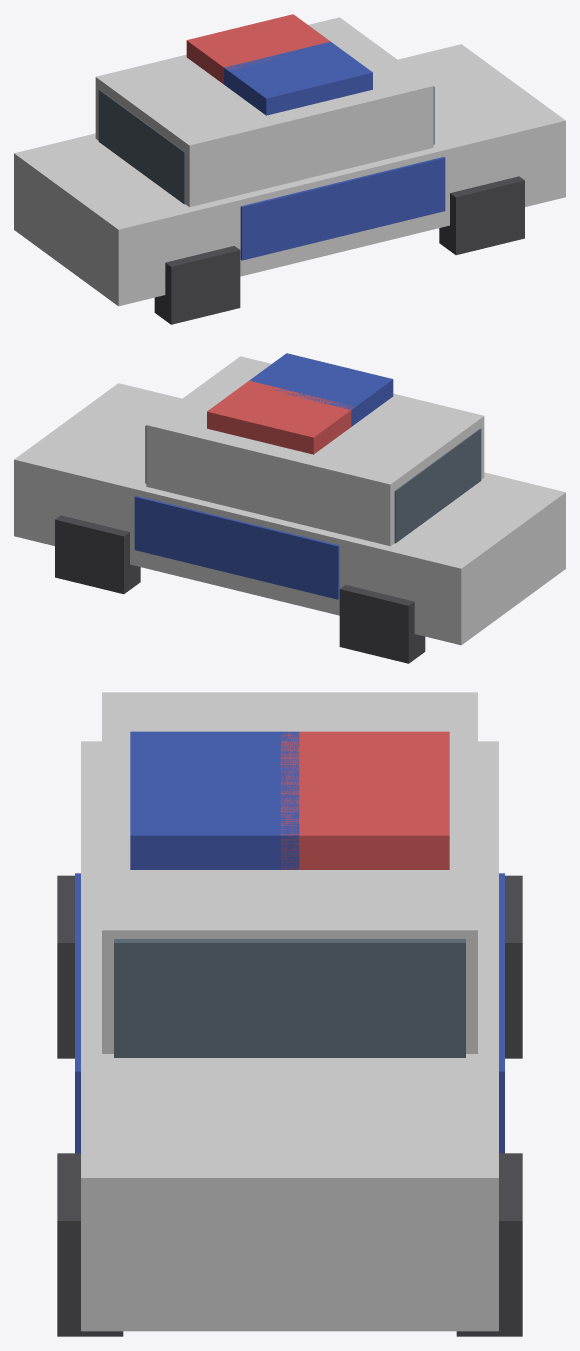
File: AED_PoliceCar.gltf
3 renders of one model, top to bottom at view 1: azimuth 30°, elevation 25°; view 2: azimuth 150°, elevation 25°; view 3: azimuth 270°, elevation 25°, orthographic. The views are drawn at different scales.
Visible parts, largest first — view 1: AED_PoliceCar; view 2: AED_PoliceCar; view 3: AED_PoliceCar.
Part boxes in pixels (box(x1,y1,x2,y2)): AED_PoliceCar: box(14, 14, 565, 324); AED_PoliceCar: box(14, 353, 565, 663); AED_PoliceCar: box(57, 692, 522, 1336).
Bounding box in the file's own units: 4.4 × 1.74 × 1.98.
